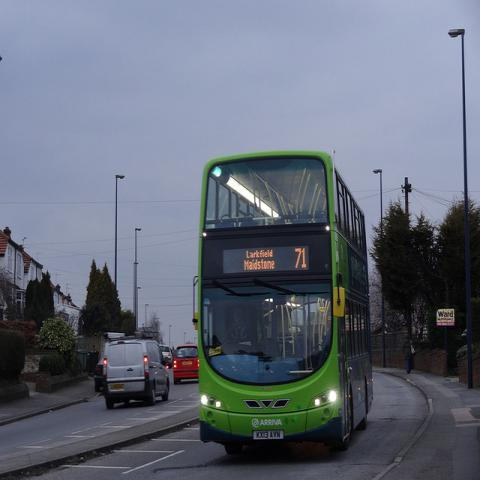bus: (192, 156, 374, 456)
car: (173, 345, 199, 385), (94, 352, 105, 392), (160, 344, 173, 368)
truck: (102, 331, 170, 409)
